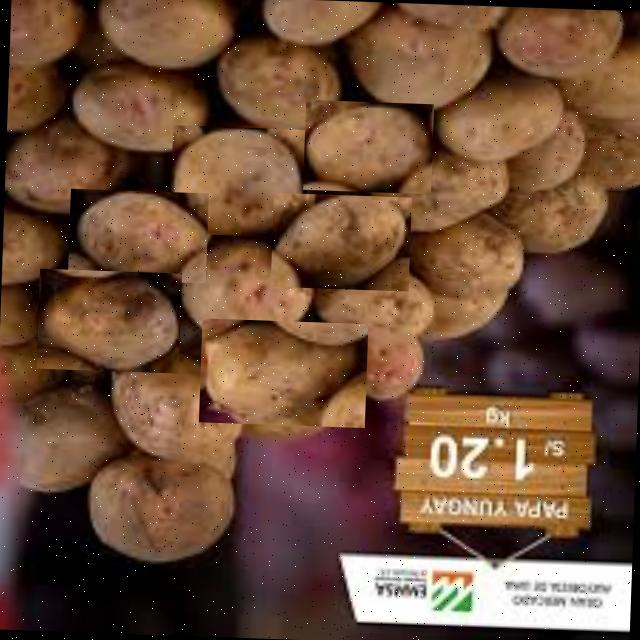Diseased-fungal potato: (198, 318, 368, 428), (175, 234, 322, 348), (169, 125, 309, 238), (36, 268, 182, 373), (61, 60, 218, 153), (270, 192, 411, 291), (68, 188, 208, 283), (432, 73, 568, 164), (302, 100, 433, 194)
